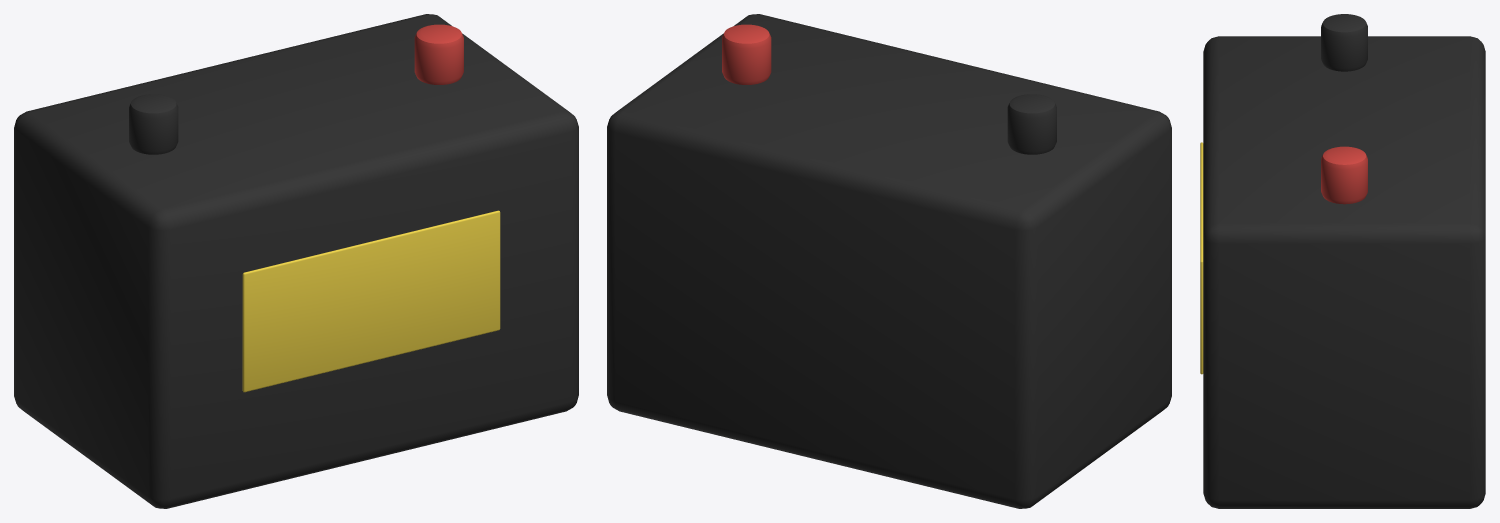
Rendered from batterybox.glb.
3 views of the same model, side by side, from view 1: azimuth 30°, elevation 25°; view 2: azimuth 150°, elevation 25°; view 3: azimuth 270°, elevation 25° (orthographic). The views are drawn at different scales.
Parts seen in each view (by area): view 1: box, label, post-0.1, post0.1; view 2: box, post-0.1, post0.1; view 3: box, post0.1, post-0.1, label.
Part boxes in pixels (<box>): box: <box>14,14,578,508</box>; label: <box>242,210,500,392</box>; post-0.1: <box>129,94,178,154</box>; post0.1: <box>414,24,463,84</box>; box: <box>607,14,1171,508</box>; post-0.1: <box>1007,94,1056,154</box>; post0.1: <box>722,24,771,84</box>; box: <box>1203,36,1485,508</box>; post0.1: <box>1321,146,1367,204</box>; post-0.1: <box>1321,14,1367,71</box>; label: <box>1200,142,1203,374</box>.
Bounding box in the file's own units: 0.3 × 0.23 × 0.182.
